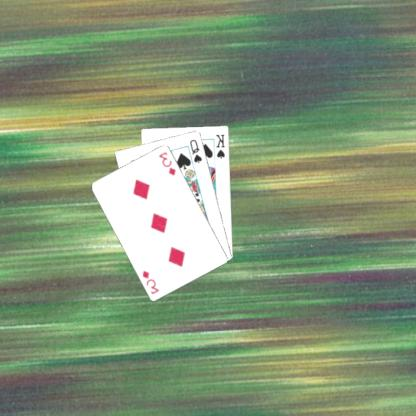3D: (141, 268, 163, 296), (158, 149, 179, 177)
KS: (215, 131, 228, 160)
QS: (189, 136, 205, 164)
